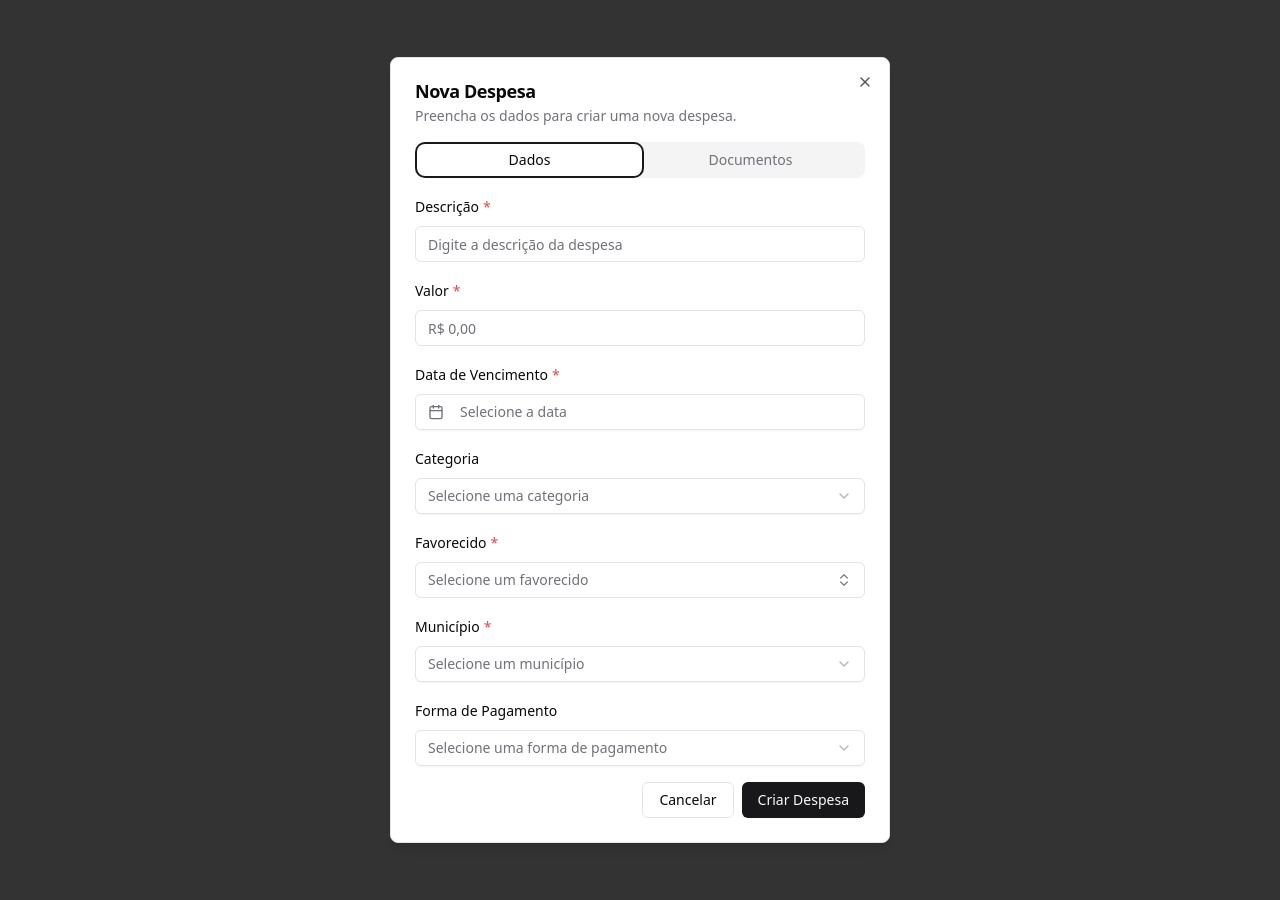
Test case: Expense File Upload Integration › Tab navigation › should have Documents tab accessible
Expected: the heading "Nova Despesa" is shown, [415, 79, 536, 103]
Click the tab "Documentos": (750, 160) [640, 146, 861, 174]
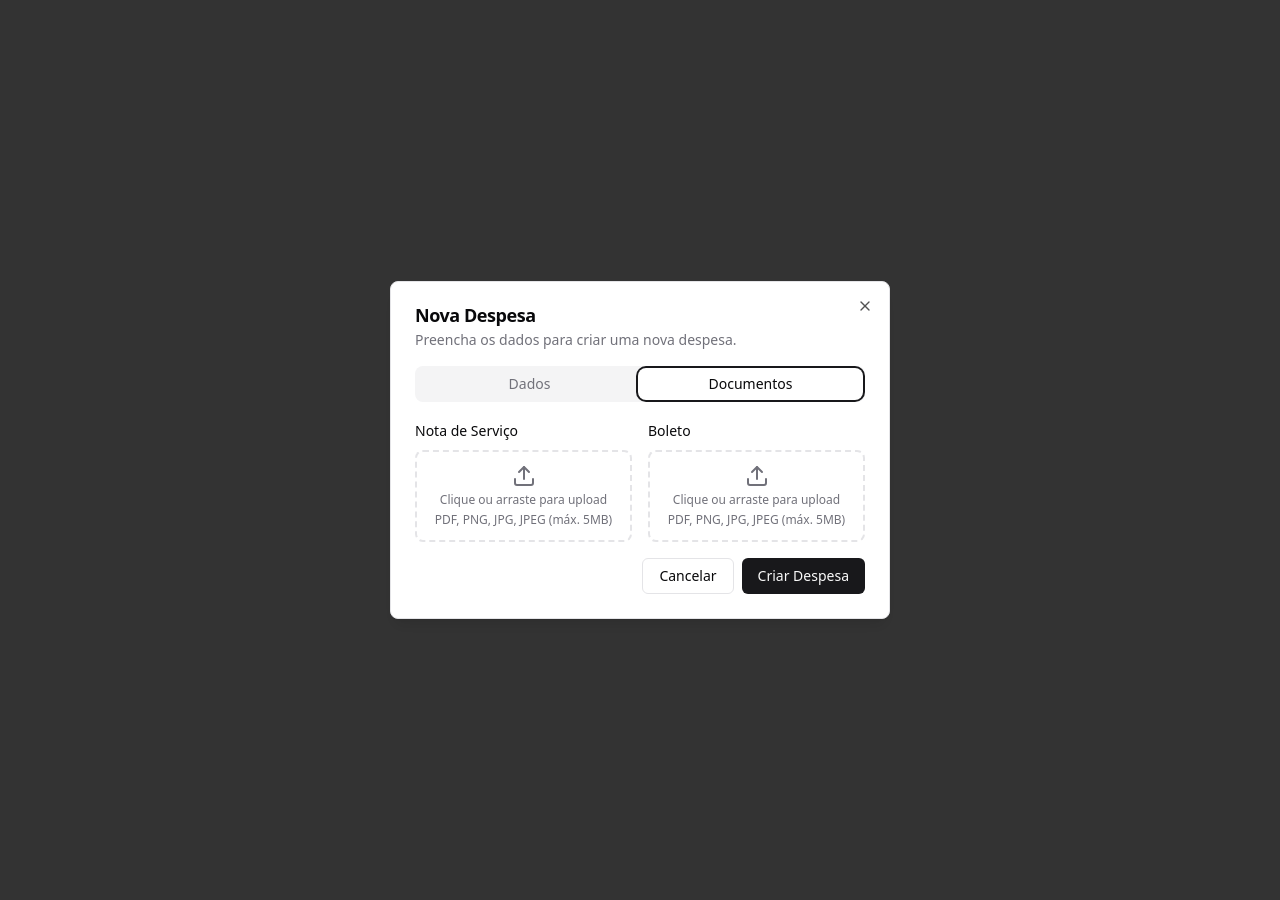
Expected: the text "Nota de Serviço" is shown, [415, 421, 518, 440]
Expected: the text "Boleto" is shown, [648, 421, 691, 440]
